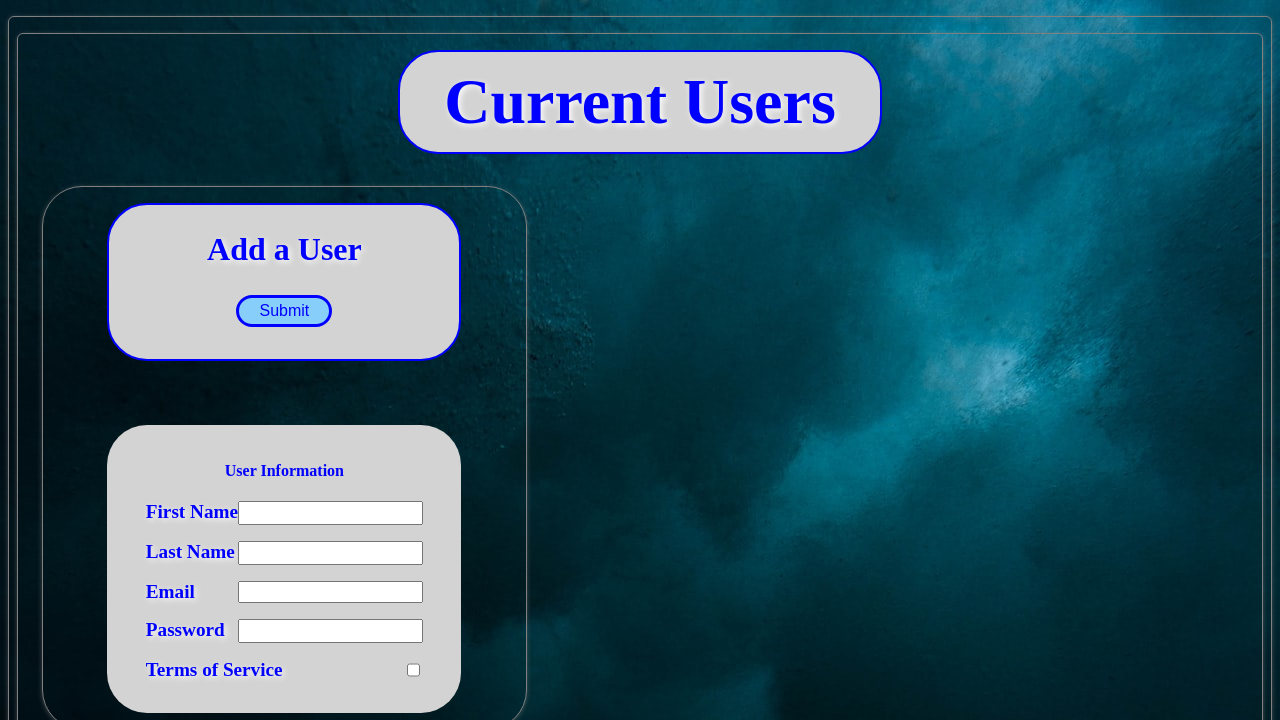
Scenario: Form validation › validates password correctly
Expected: the text "Password must be at least five characters long" is not shown
Type "a" into the field named "password".
click(331, 631); type("a")  # box [238, 619, 423, 643]
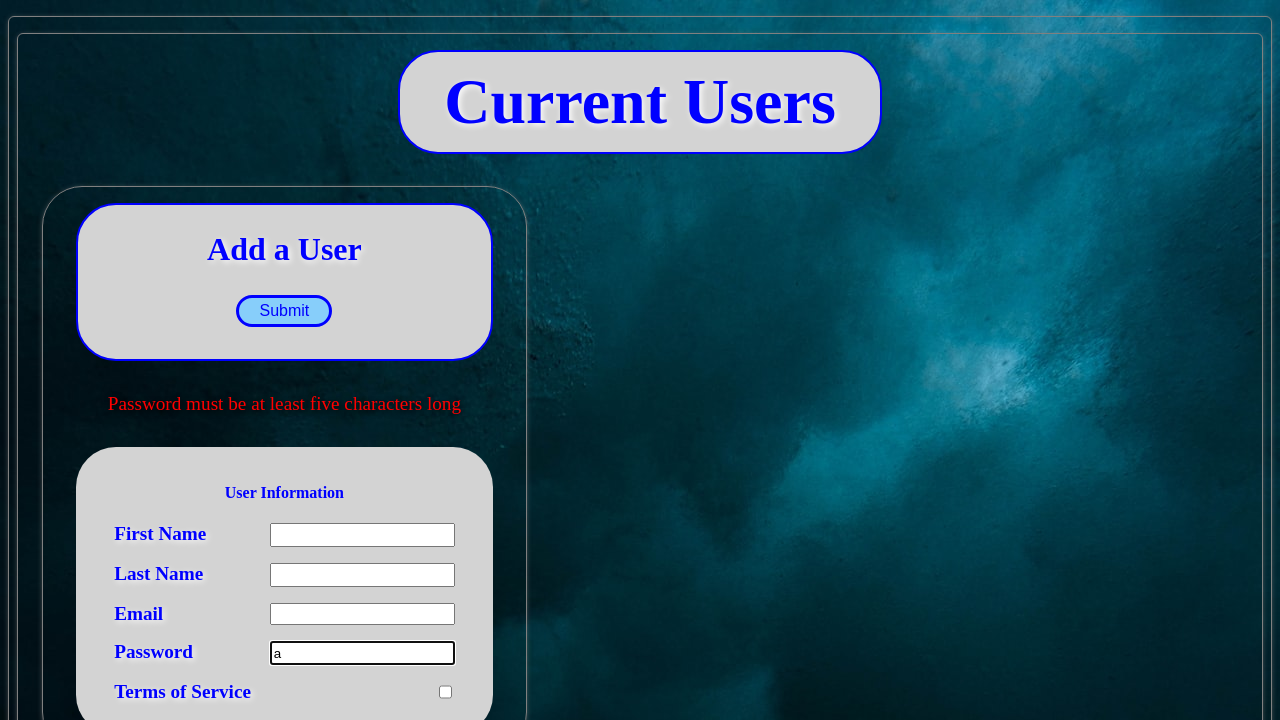
Result: the text "Password must be at least five characters long" is shown at [108, 393, 461, 415]
Type "b" into the field named "password".
click(363, 653); type("b")  # box [270, 641, 455, 665]
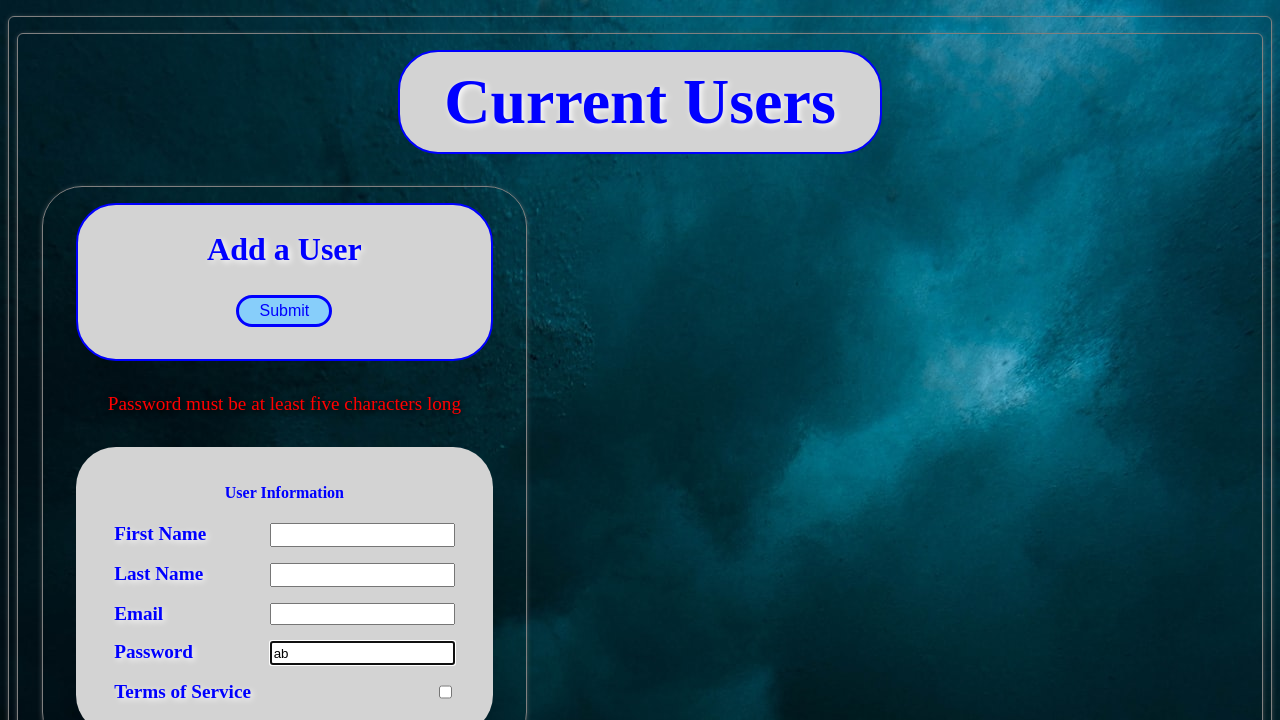
Result: the text "Password must be at least five characters long" is shown at [108, 393, 461, 415]
Type "c" into the field named "password".
click(363, 653); type("c")  # box [270, 641, 455, 665]
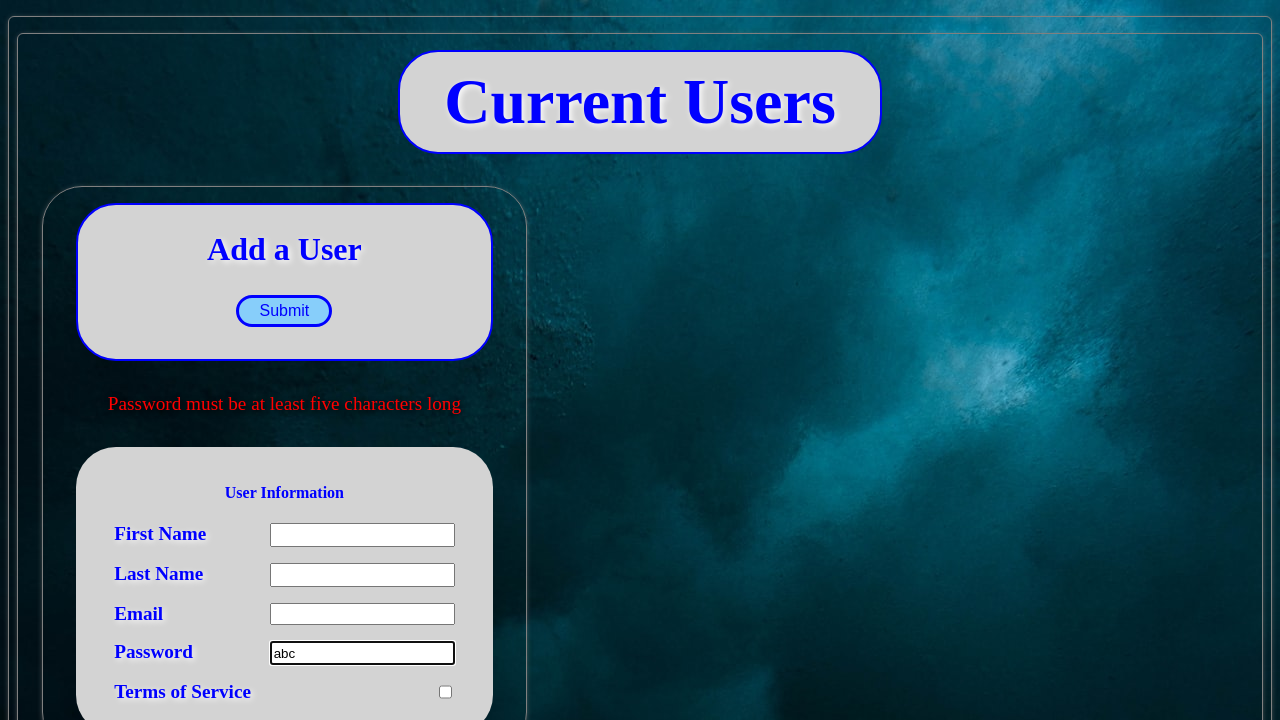
Result: the text "Password must be at least five characters long" is shown at [108, 393, 461, 415]
Type "d" into the field named "password".
click(363, 653); type("d")  # box [270, 641, 455, 665]
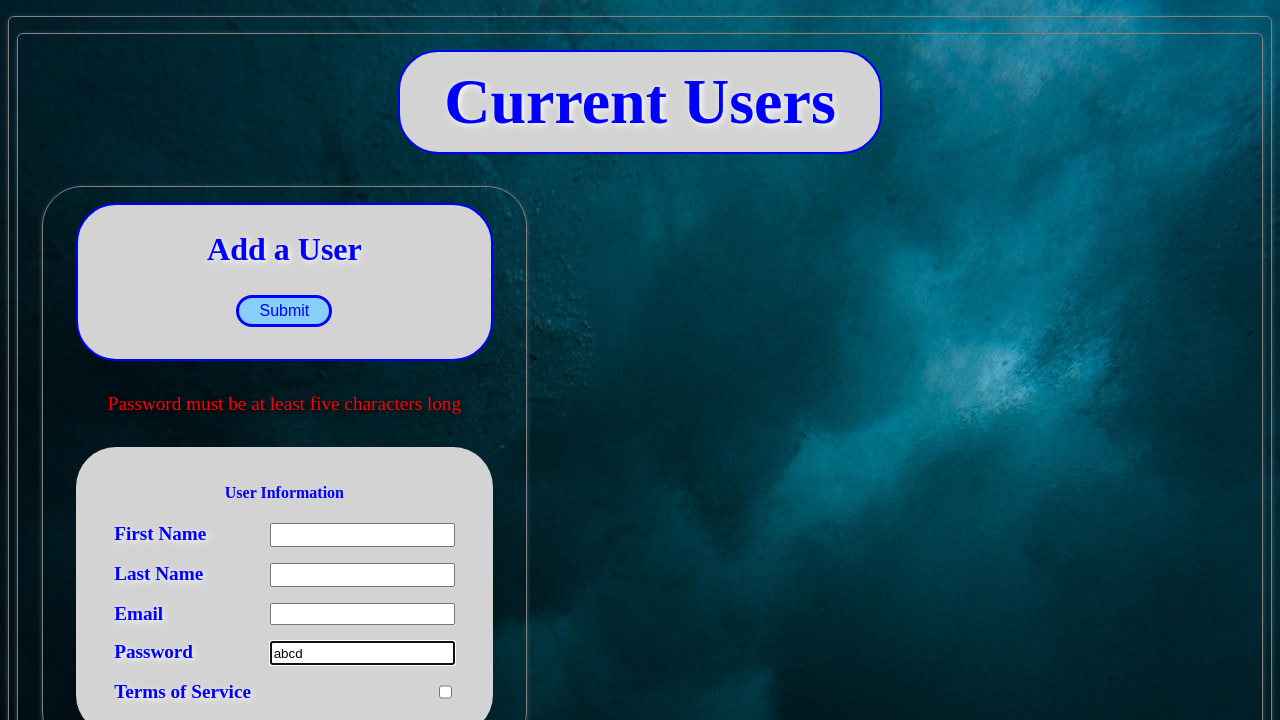
Result: the text "Password must be at least five characters long" is shown at [108, 393, 461, 415]
Type "e" into the field named "password".
click(363, 653); type("e")  # box [270, 641, 455, 665]
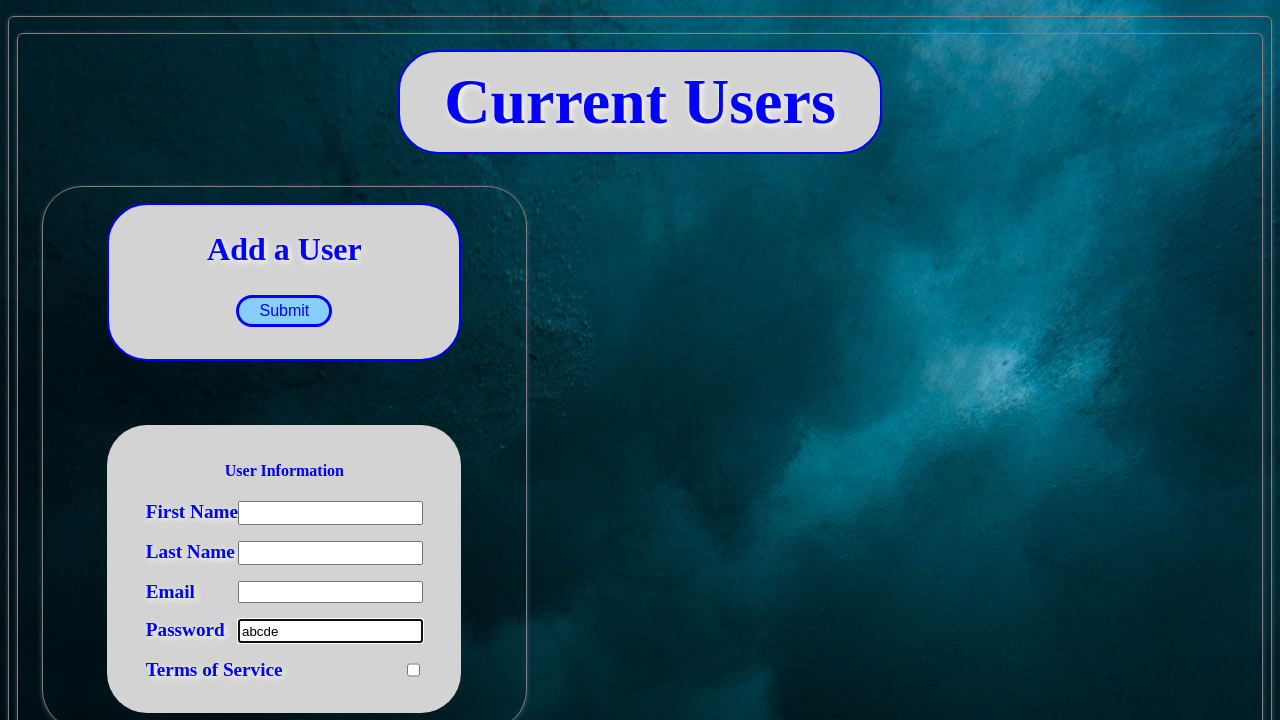
Result: the text "Password must be at least five characters long" is gone
